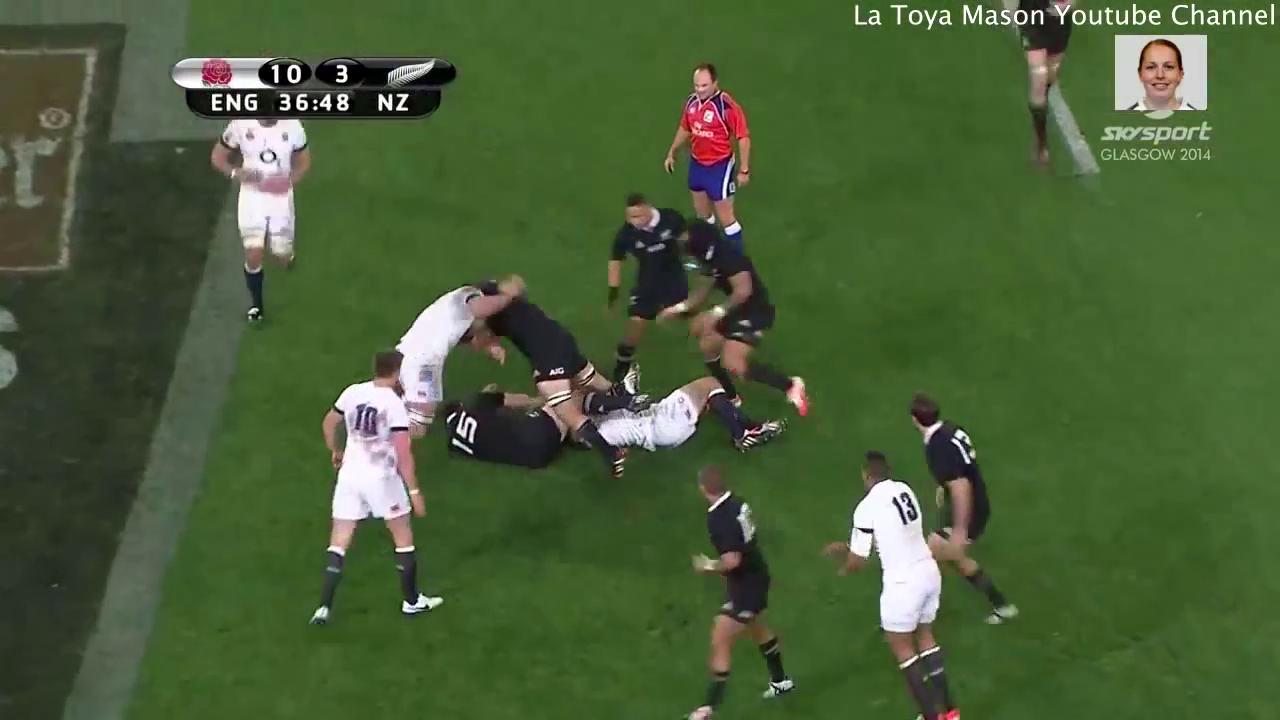player: (302, 341, 457, 629), (816, 442, 967, 720), (461, 268, 640, 491), (648, 209, 827, 420), (670, 458, 805, 720), (903, 380, 1023, 633), (577, 373, 807, 491), (202, 116, 316, 330), (657, 57, 767, 260), (587, 193, 694, 390), (371, 276, 493, 446), (998, 1, 1086, 172), (417, 384, 591, 468)
